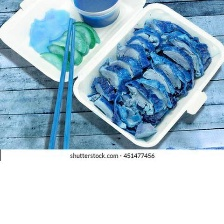foam_box: (0, 0, 224, 148)
